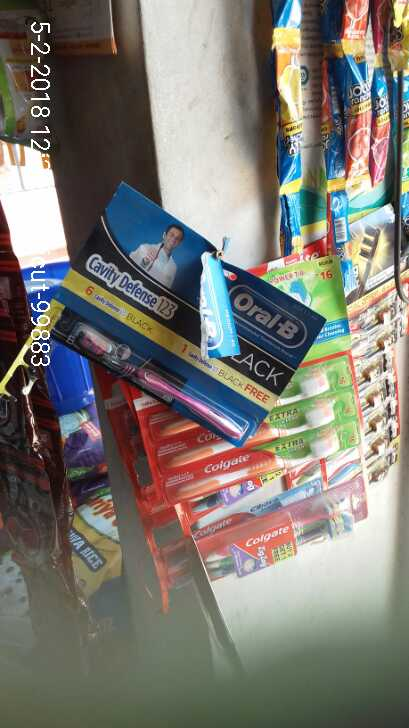oralb: (63, 308, 249, 446)
